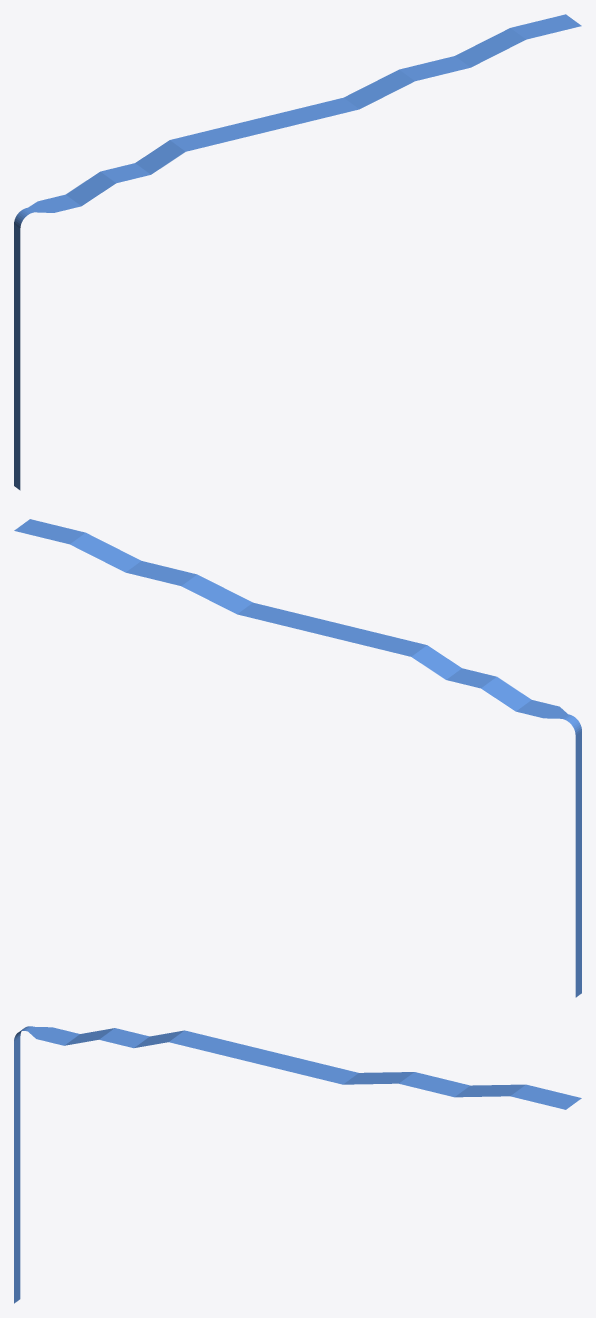
File: Dragonfly_Shrine_Water.fbx
3 renders of one model, top to bottom at view 1: azimuth 30°, elevation 25°; view 2: azimuth 150°, elevation 25°; view 3: azimuth 330°, elevation 25°, orthographic.
Visible parts, largest first — view 1: Water; view 2: Water; view 3: Water.
Boxes of the visible parts, x1,y1,x2,y2 form: Water: (14, 14, 581, 490); Water: (14, 519, 581, 997); Water: (14, 1026, 581, 1303).
Bounding box in the file's own units: 80 × 45.8 × 4.
